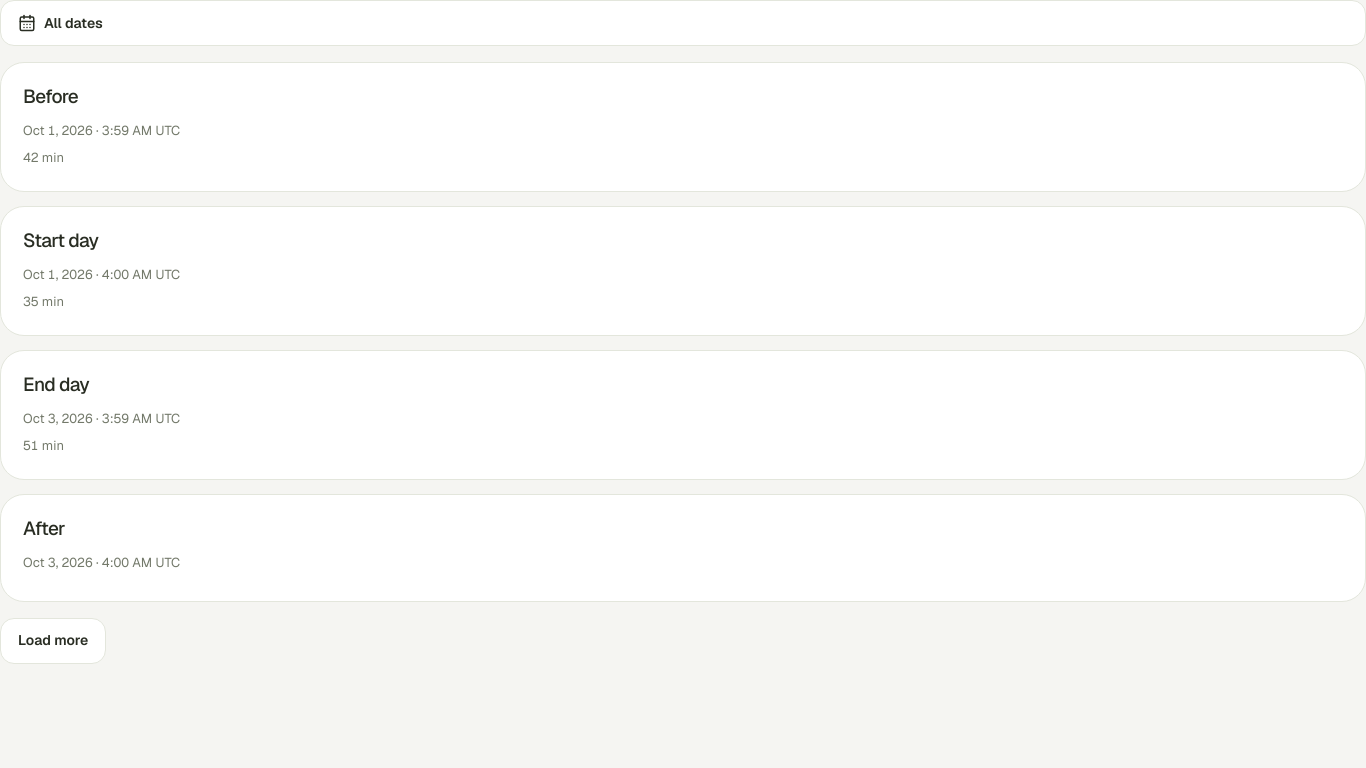
Scenario: WorkoutHistory date filters › includes both local date boundaries and shows date and duration metadata
This screenshot has width=1366, height=768.
Click the button with aria-label "Date range:" at {"x": 73, "y": 23}, box x1=0 y1=0 x2=1365 y2=46
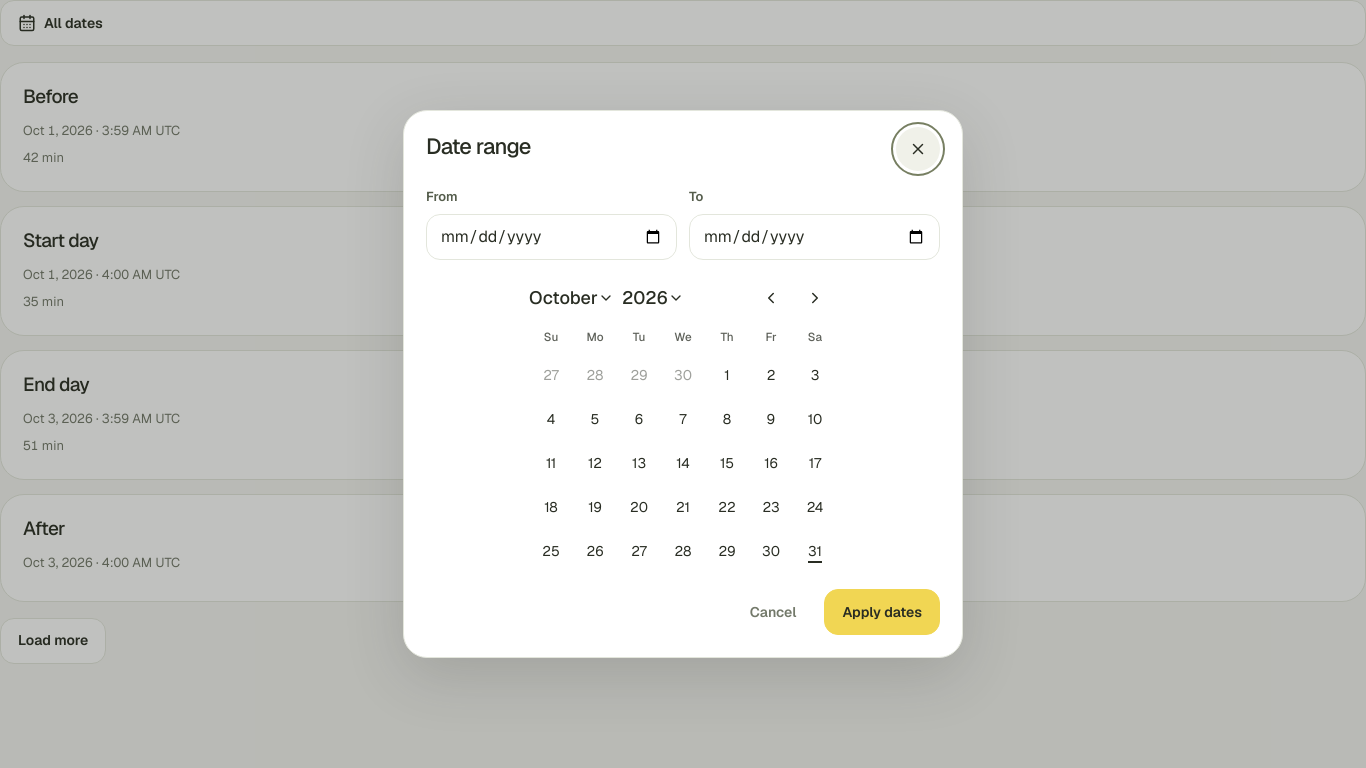
Type "2026-10-01" into the date field labelled "From" at {"x": 552, "y": 236}, box x1=426 y1=214 x2=677 y2=260
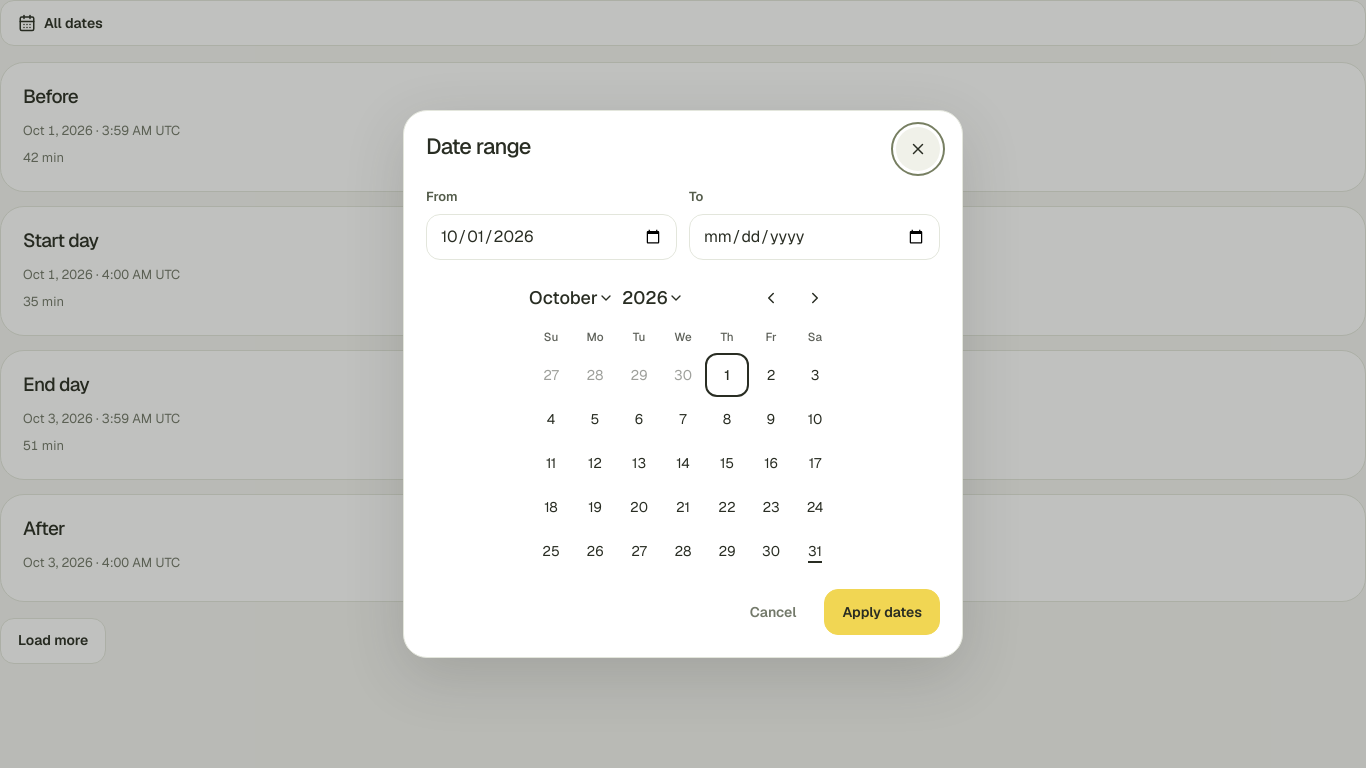
Type "2026-10-02" into the date field labelled "To" at {"x": 814, "y": 236}, box x1=689 y1=214 x2=940 y2=260
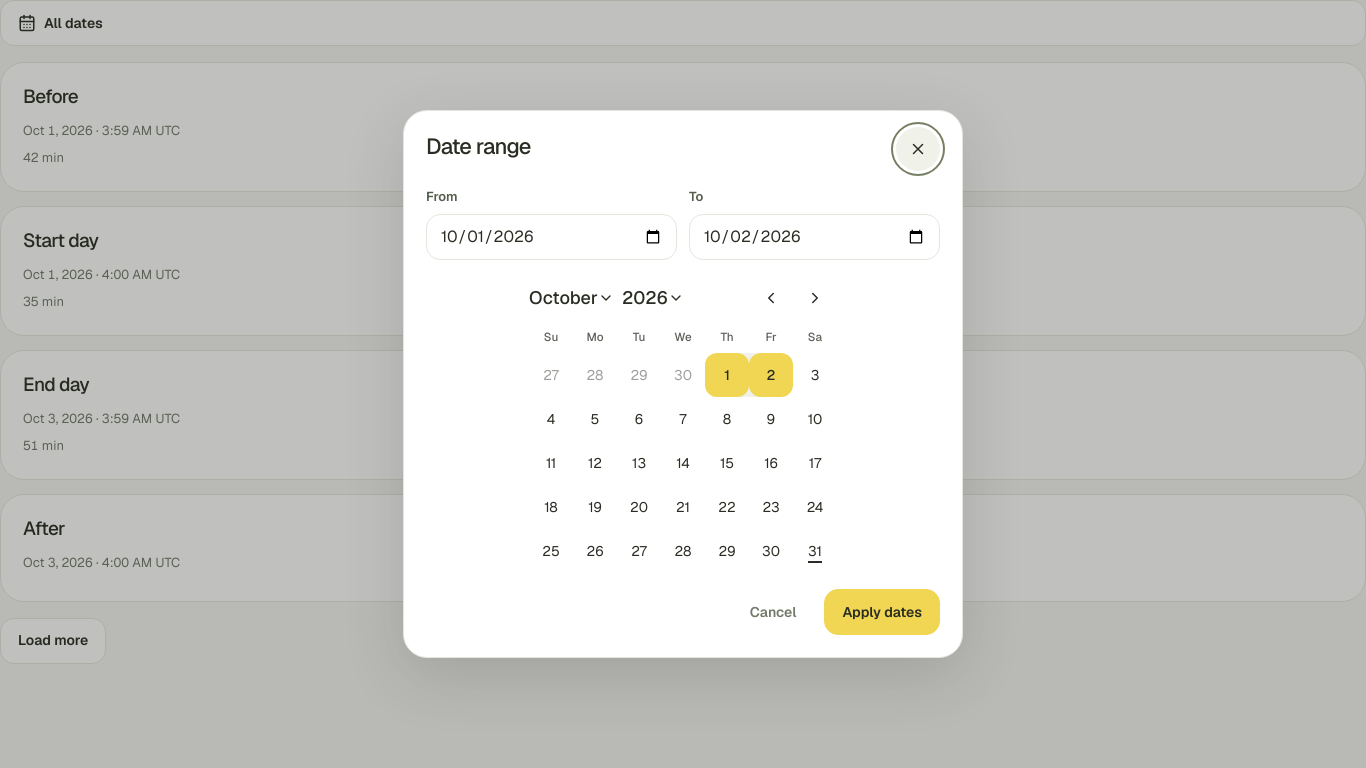
Click the button "Apply dates" at {"x": 882, "y": 612}, box x1=824 y1=589 x2=940 y2=635
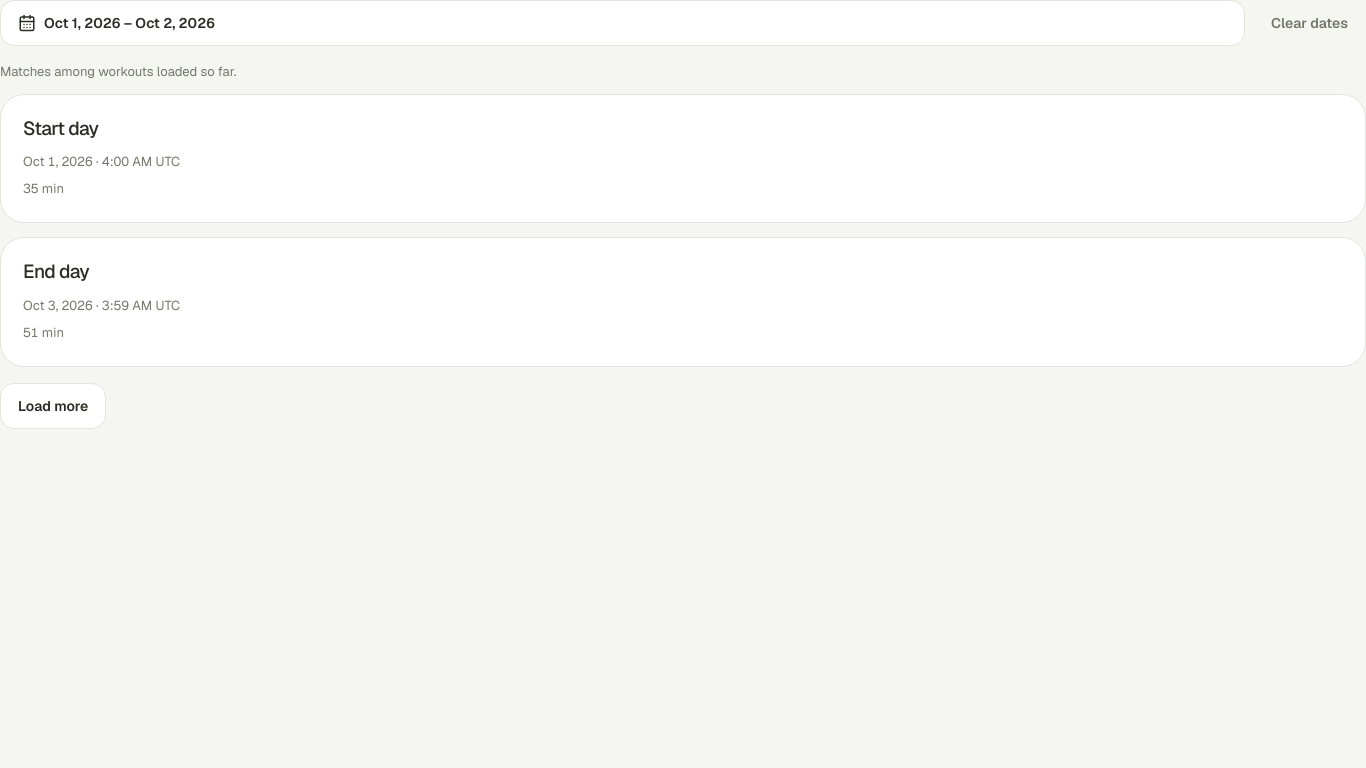
Expected: the heading "Start day" is shown, x1=23 y1=116 x2=98 y2=140
Expected: the button "Before" is gone
Expected: the button "After" is gone
